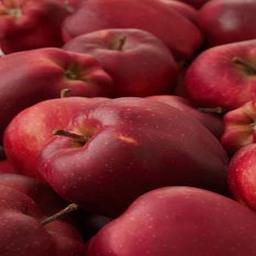apple: (3, 98, 232, 208), (92, 188, 256, 254), (61, 27, 177, 99), (1, 48, 112, 102), (186, 38, 256, 108), (2, 202, 95, 253)
